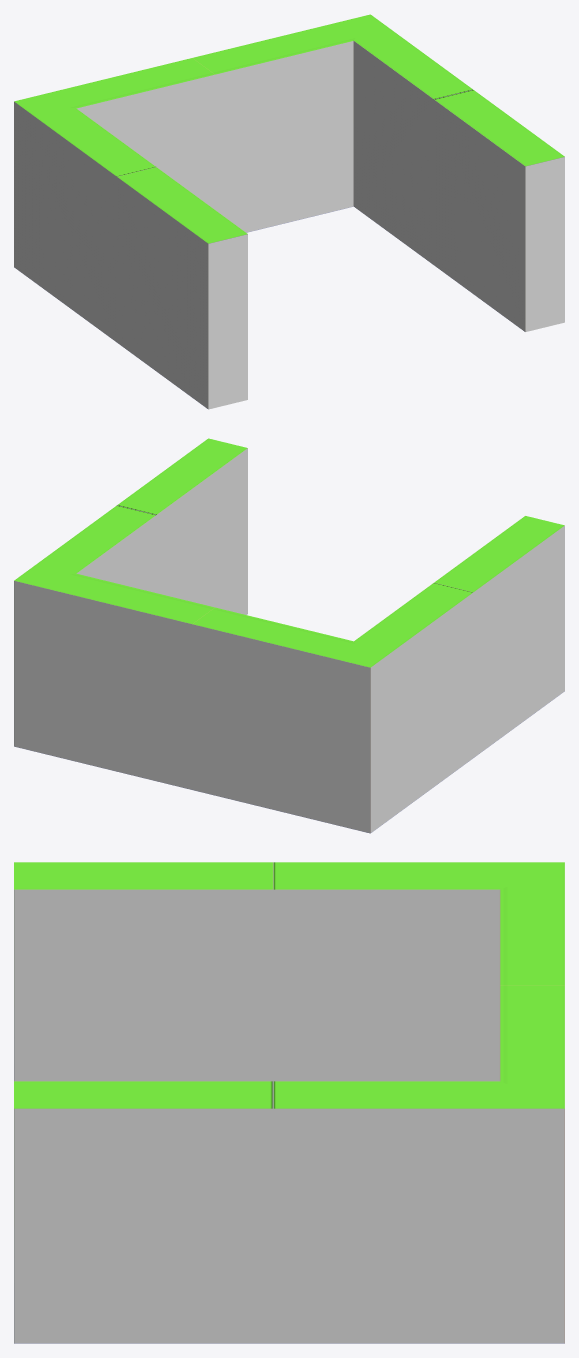
File: MK_MK_Wall_DeadEnd_Half_A.fbx
3 renders of one model, top to bottom at view 1: azimuth 30°, elevation 25°; view 2: azimuth 150°, elevation 25°; view 3: azimuth 270°, elevation 25°, orthographic. The views are drawn at different scales.
Visible parts, largest first — view 1: MK_Wall_DeadEnd_Half_A; view 2: MK_Wall_DeadEnd_Half_A; view 3: MK_Wall_DeadEnd_Half_A.
Boxes of the visible parts, bbox=[...] form: MK_Wall_DeadEnd_Half_A: bbox=[14, 14, 564, 409]; MK_Wall_DeadEnd_Half_A: bbox=[14, 438, 564, 833]; MK_Wall_DeadEnd_Half_A: bbox=[14, 862, 564, 1343].
Bounding box in the file's own units: 202 × 90 × 191.
1 material, 1 textured.
